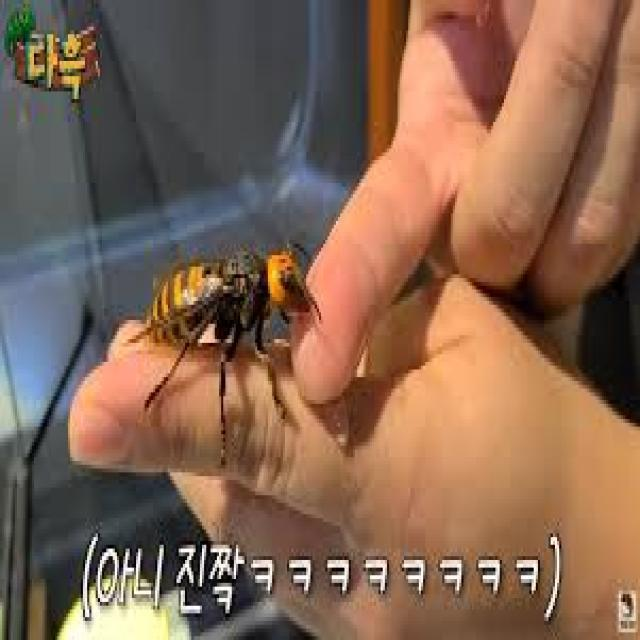Wasp: (126, 220, 307, 460)
